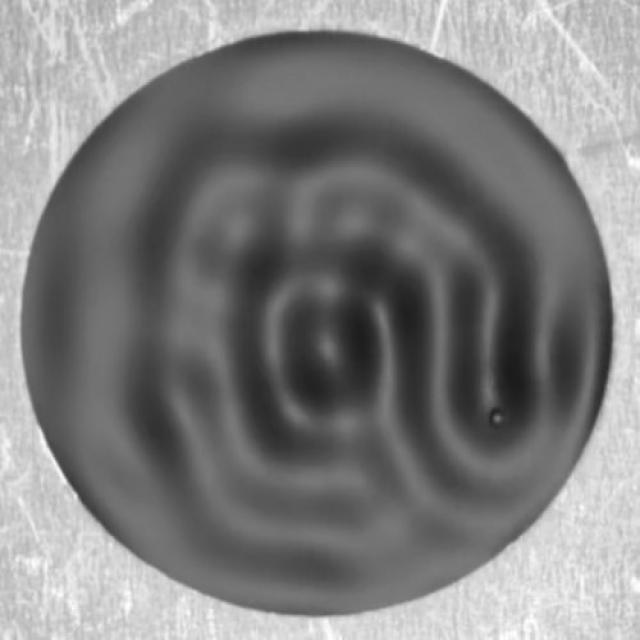droplet: (490, 408, 507, 432)
